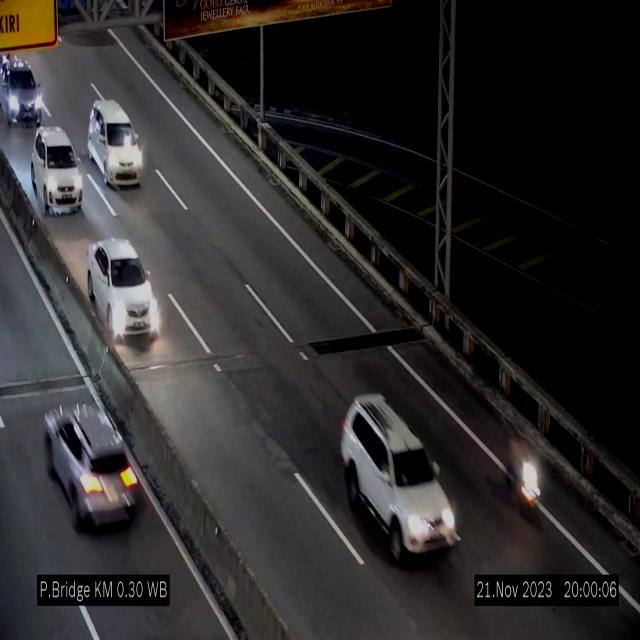Car: (341, 393, 457, 563), (37, 386, 143, 538), (87, 238, 159, 340), (28, 114, 82, 218), (88, 100, 144, 186), (0, 58, 44, 132)
Motorcycle: (501, 422, 542, 522)
